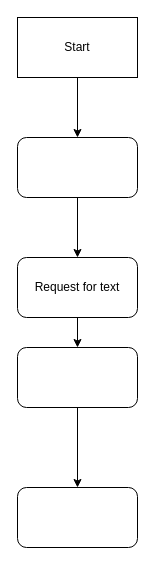
Image size: 155x565. Some labels were removed from this diagram. Here are the shapes that lost their labels. From the top down, the box of each, then its label:
(16, 136, 138, 198): Request action, Encode or decode
(16, 346, 138, 408): Request for shift number.
